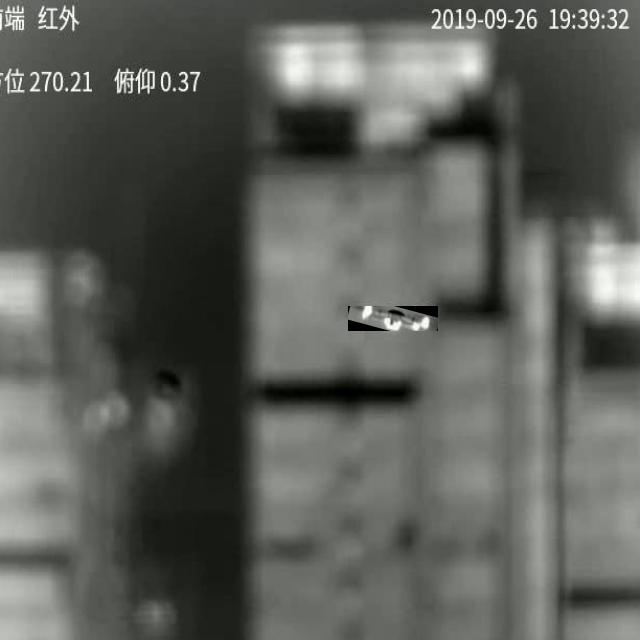drone: (351, 306, 438, 331)
